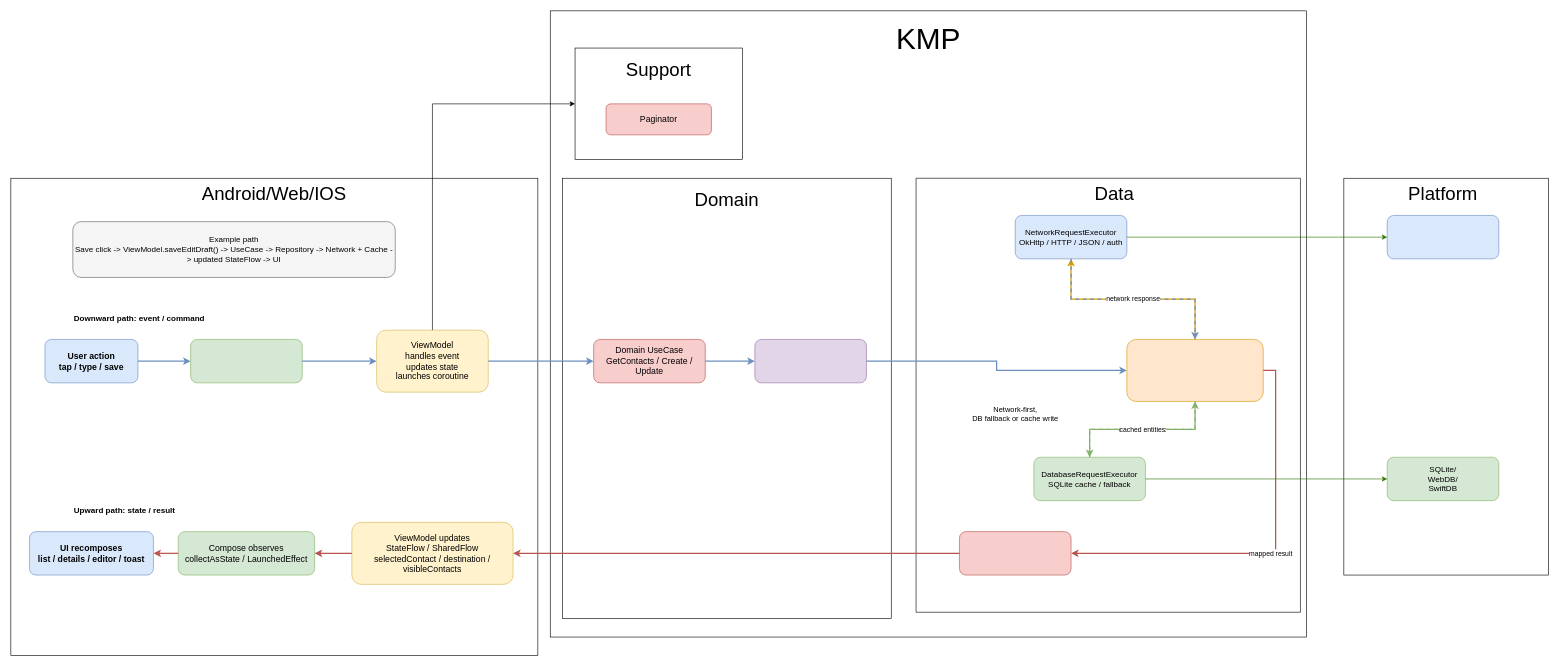
Image size: 1559x667. Some labels were removed from this diagram. Here are the shapes that lost their labels. From the top down, the centre of each, then its label:
At (1443,237): "Retrofit/ WebHttpClient/ SwiftHttpClient".
At (246,361): "Compose UI/React/SwiftUI Button / TextField / Screen".
At (810,361): "Domain contract ContactsRepository".
At (1194,370): "Data layer ContactsRepositoryImpl orchestrates source + mapping + cache".
At (1015,553): "Repository returns domain model / page / error".
